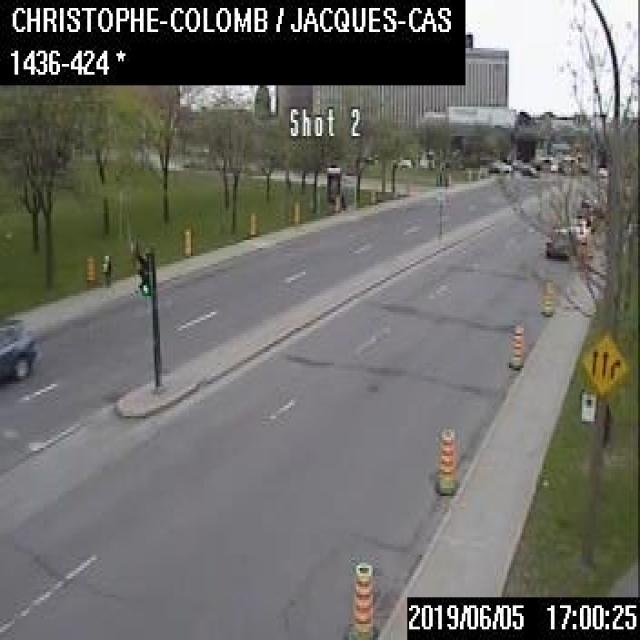bus: (371, 146, 433, 169)
construction: (346, 560, 376, 638), (433, 424, 457, 493), (506, 319, 522, 368), (540, 276, 553, 314), (84, 252, 94, 284), (182, 225, 190, 256), (246, 208, 255, 235), (291, 199, 299, 221)
pedestrian: (100, 251, 110, 288)
vehicle: (0, 309, 35, 379), (544, 226, 573, 256), (566, 216, 592, 241), (575, 196, 597, 222), (487, 157, 511, 172)
